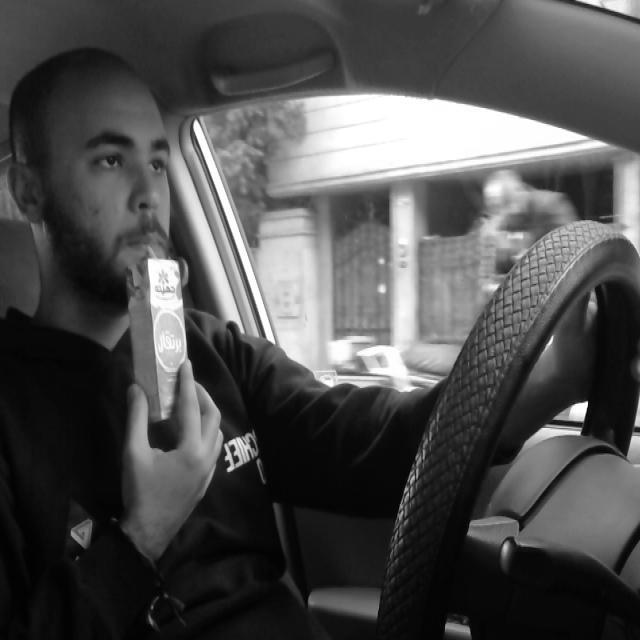Drinking: (122, 254, 194, 428)
